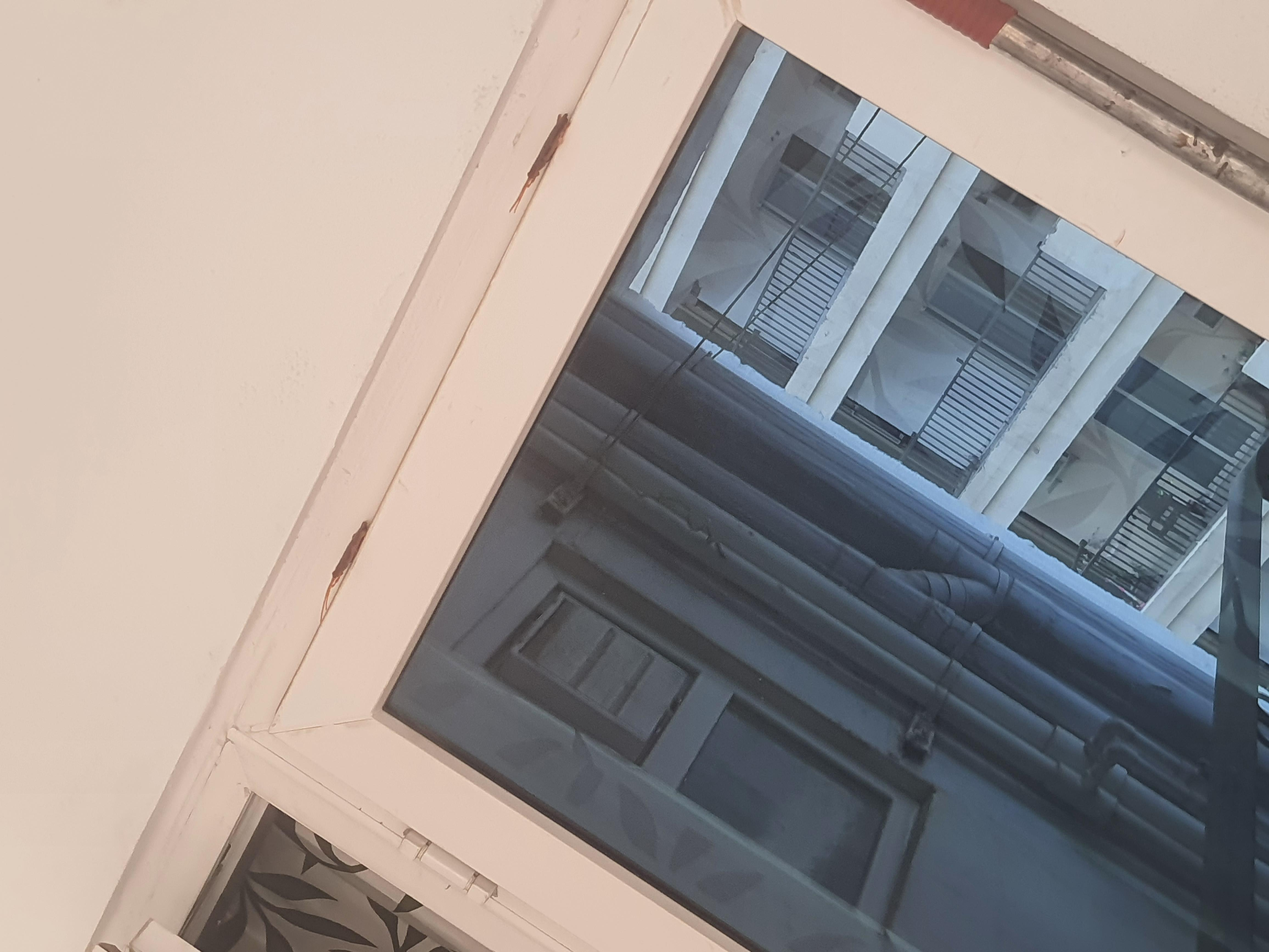cockroach: (964, 365, 1130, 431), (448, 231, 581, 291)
